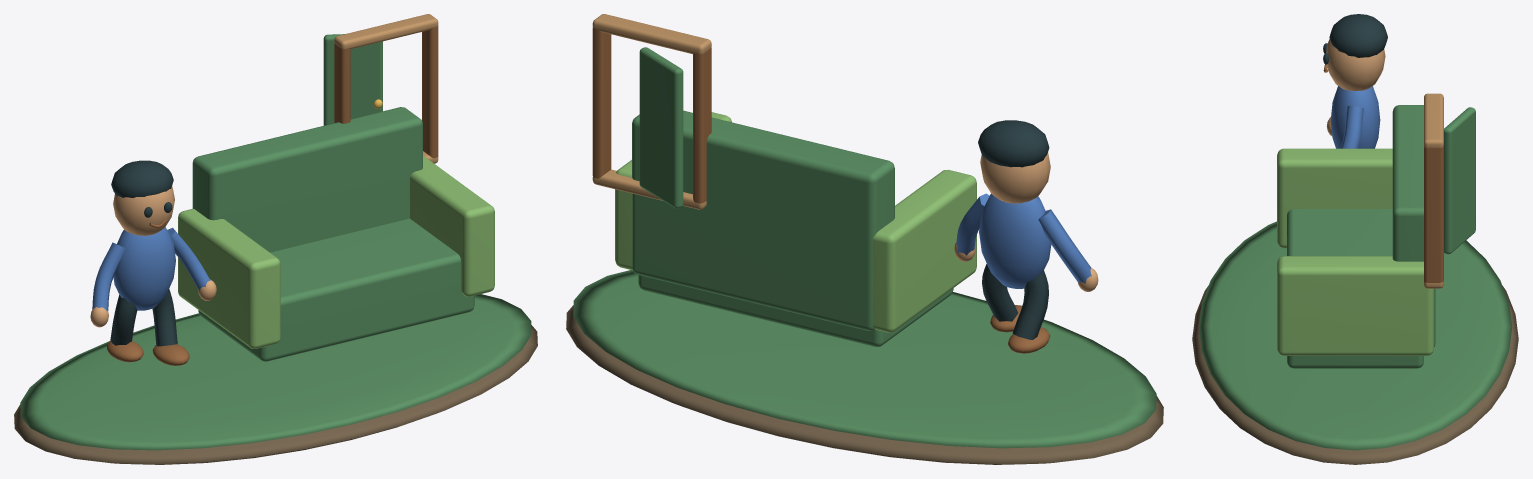
File: guest-room.glb
3 views of the same model, side by side, from view 1: azimuth 30°, elevation 25°; view 2: azimuth 150°, elevation 25°; view 3: azimuth 270°, elevation 25° (orthographic). The views are drawn at different scales.
Parts seen in each view (by area): view 1: guest-room_surface_01, guest-room_surface_06, guest-room_surface_00, guest-room_surface_05, guest-room_surface_04, guest-room_surface_03, guest-room_surface_02, guest-room_surface_07; view 2: guest-room_surface_01, guest-room_surface_06, guest-room_surface_00, guest-room_surface_05, guest-room_surface_04, guest-room_surface_03, guest-room_surface_07, guest-room_surface_02; view 3: guest-room_surface_01, guest-room_surface_06, guest-room_surface_00, guest-room_surface_05, guest-room_surface_04, guest-room_surface_03, guest-room_surface_02, guest-room_surface_07.
Boxes of the visible parts, <box> form: guest-room_surface_01: <box>20,34,531,450</box>; guest-room_surface_06: <box>178,156,494,348</box>; guest-room_surface_00: <box>14,325,537,464</box>; guest-room_surface_05: <box>92,227,210,310</box>; guest-room_surface_04: <box>106,26,438,365</box>; guest-room_surface_03: <box>110,160,177,346</box>; guest-room_surface_02: <box>90,186,216,327</box>; guest-room_surface_07: <box>334,14,438,163</box>; guest-room_surface_01: <box>573,47,1156,448</box>; guest-room_surface_06: <box>615,112,976,332</box>; guest-room_surface_00: <box>566,305,1163,464</box>; guest-room_surface_05: <box>956,193,1091,288</box>; guest-room_surface_04: <box>592,27,1050,353</box>; guest-room_surface_03: <box>978,120,1049,339</box>; guest-room_surface_07: <box>592,14,711,209</box>; guest-room_surface_02: <box>954,152,1098,291</box>; guest-room_surface_01: <box>1198,105,1512,450</box>; guest-room_surface_06: <box>1277,148,1433,355</box>; guest-room_surface_00: <box>1192,285,1518,464</box>; guest-room_surface_05: <box>1330,86,1380,148</box>; guest-room_surface_04: <box>1323,64,1443,282</box>; guest-room_surface_03: <box>1323,14,1387,64</box>; guest-room_surface_02: <box>1326,39,1385,135</box>; guest-room_surface_07: <box>1424,93,1443,288</box>.
Size of the model in its own units: 4.56 by 2.64 by 2.5.
